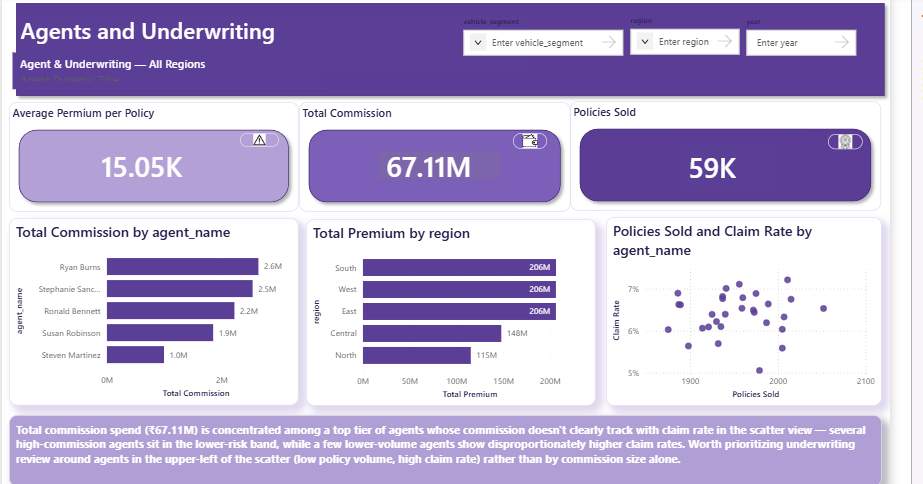

The page's visual inventory and layout, read from the dashboard file:
{"tool":"powerbi","page":{"name":"Agent & Underwriting","canvas":[1280,720],"ordinal":2},"visuals":[{"type":"shape","box":[11.8,0,1268.2,151.2],"z":0},{"type":"textbox","title":"Agents and Underwriting","box":[22.1,26.5,735.3,80.9],"z":1000},{"type":"cardVisual","fields":{"Data":["dim_agent.Agent Dynamic Title"]},"box":[10.8,75.4,458.5,63.1],"z":2000},{"type":"shape","title":"Total Commission","box":[427.7,150.8,390.8,158.5],"z":3000},{"type":"shape","title":"Average Permium per Policy","box":[10.8,150.8,416.9,158.5],"z":4000},{"type":"shape","title":"Policies Sold ","box":[818.5,149.2,447.7,158.5],"z":5000},{"type":"cardVisual","fields":{"Data":["dim_agent.Avg Premium per Policy"]},"box":[113.8,204.6,210.8,75.4],"z":6000},{"type":"cardVisual","fields":{"Data":["dim_agent.Policies Sold"]},"box":[958.5,190.8,173.8,104.6],"z":7000},{"type":"textSlicer","fields":{"Values":["dim_agent.region"]},"box":[900,25.9,167,61.9],"z":8000},{"type":"textSlicer","fields":{"Values":["dim_policy.vehicle_segment"]},"box":[659.5,27.4,240.5,61.9],"z":9000},{"type":"textSlicer","fields":{"Values":["dim_date.year"]},"box":[1067,27.4,168.5,61.9],"z":10000},{"type":"cardVisual","fields":{"Data":["dim_agent.Total Commission"]},"box":[524.6,204.6,210.8,75.4],"z":11000},{"type":"barChart","fields":{"Category":["dim_agent.agent_name"],"Y":["dim_agent.Total Commission"]},"box":[10.1,318.8,417.4,269.6],"z":12000},{"type":"barChart","fields":{"Category":["dim_agent.region"],"Y":["dim_agent.Total Premium"]},"box":[438.5,320,416.9,269.2],"z":13000},{"type":"scatterChart","fields":{"X":["dim_agent.Policies Sold"],"Y":["dim_agent.Claim Rate"],"Category":["dim_agent.agent_name"]},"box":[869.2,316.9,396.9,272.3],"z":14000},{"type":"textbox","title":"Inference","box":[10.8,601.5,1256.9,103.1],"z":15000},{"type":"image","box":[735.4,196.3,48.8,23.2],"z":16000},{"type":"image","box":[342.7,196.3,56.1,19.5],"z":17000},{"type":"image","box":[1189,197.6,50,22],"z":18000}]}

Visuals, with their boxes on the page's 1280x720 design canvas (x1, y1, x2, y2). These are canvas units, not pixel positions in the 923x484 screenshot, which may show the page scaled, cropped or inside an application window:
shape: 12, 0, 1280, 151
"Agents and Underwriting" textbox: 22, 26, 757, 107
cardVisual - dim_agent.Agent Dynamic Title: 11, 75, 469, 138
"Total Commission" shape: 428, 151, 818, 309
"Average Permium per Policy" shape: 11, 151, 428, 309
"Policies Sold " shape: 818, 149, 1266, 308
cardVisual - dim_agent.Avg Premium per Policy: 114, 205, 325, 280
cardVisual - dim_agent.Policies Sold: 958, 191, 1132, 295
textSlicer - dim_agent.region: 900, 26, 1067, 88
textSlicer - dim_policy.vehicle_segment: 660, 27, 900, 89
textSlicer - dim_date.year: 1067, 27, 1236, 89
cardVisual - dim_agent.Total Commission: 525, 205, 735, 280
barChart - dim_agent.agent_name x dim_agent.Total Commission: 10, 319, 428, 588
barChart - dim_agent.region x dim_agent.Total Premium: 438, 320, 855, 589
scatterChart - dim_agent.Policies Sold x dim_agent.Claim Rate: 869, 317, 1266, 589
"Inference" textbox: 11, 602, 1268, 705
image: 735, 196, 784, 220
image: 343, 196, 399, 216
image: 1189, 198, 1239, 220
